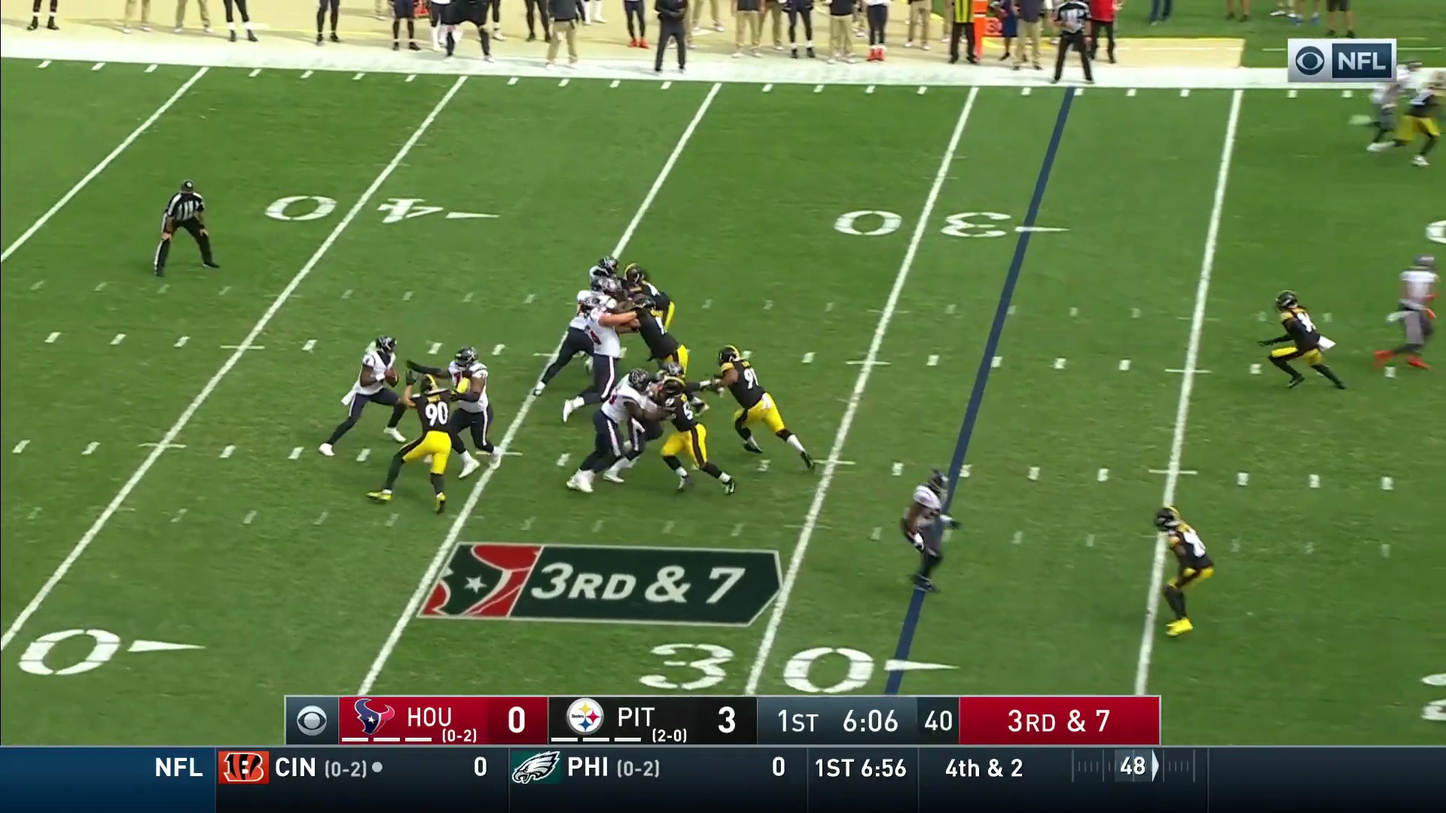Player: (410, 374, 453, 512), (573, 278, 622, 399), (449, 347, 494, 467), (1391, 255, 1439, 366), (624, 263, 676, 358), (1396, 62, 1442, 166)
